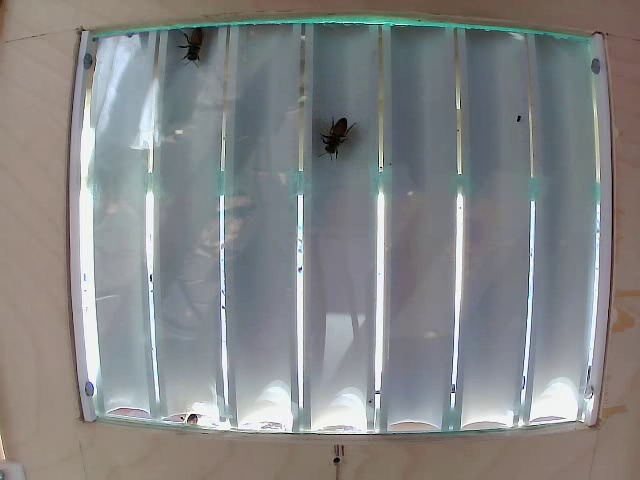bee: (313, 112, 359, 174), (171, 16, 209, 73)
